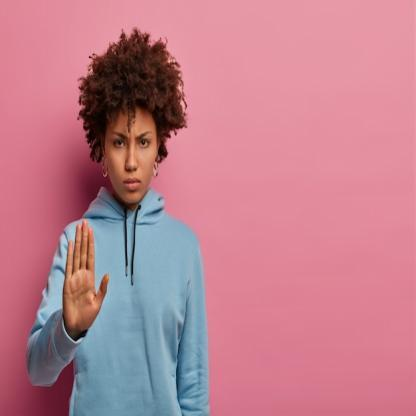stop: (61, 218, 113, 336)
